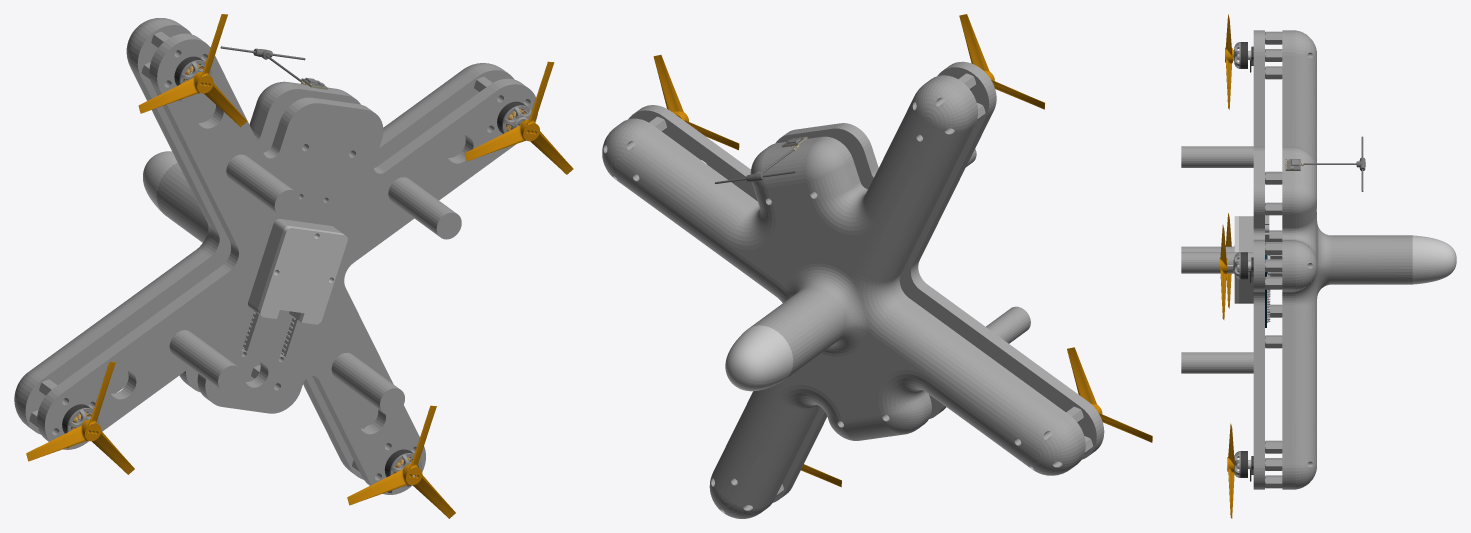
Rendered from drone-frame-v1.glb.
The picture shows the model from 3 angles, left to right: view 1: azimuth 30°, elevation 25°; view 2: azimuth 150°, elevation 25°; view 3: azimuth 270°, elevation 25°; orthographic projection. The views are drawn at different scales.
Parts seen in each view (by area): view 1: empty_2; view 2: empty_2; view 3: empty_2.
Part boxes in pixels (x1,y1,x2,y2): empty_2: (14, 14, 573, 518); empty_2: (602, 14, 1152, 518); empty_2: (1181, 14, 1456, 518).
Bounding box in the file's own units: 0.3243 × 0.3212 × 0.1906.
